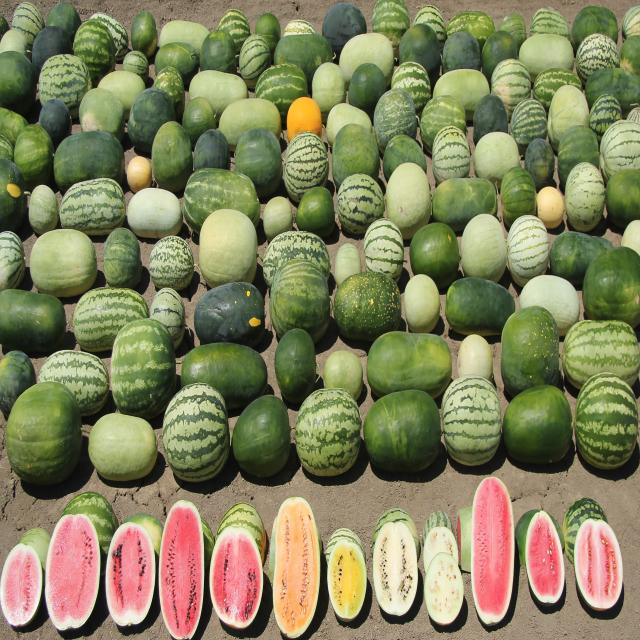Watermelon: (45, 492, 119, 632), (458, 478, 514, 625), (159, 502, 214, 639), (210, 504, 266, 630), (110, 318, 176, 420), (162, 384, 230, 482), (562, 499, 622, 610), (574, 374, 639, 470), (106, 516, 162, 627), (295, 388, 361, 478), (441, 376, 502, 466), (562, 321, 640, 388), (0, 528, 50, 627), (74, 287, 149, 352), (515, 509, 565, 606), (38, 350, 109, 415), (262, 232, 331, 287), (60, 179, 126, 236), (39, 55, 91, 118), (284, 133, 329, 203), (338, 174, 385, 234), (74, 19, 115, 87), (600, 121, 640, 183), (364, 220, 404, 282), (149, 236, 194, 289), (391, 60, 431, 116), (432, 125, 470, 183), (576, 34, 620, 82), (11, 2, 45, 48), (530, 7, 570, 39)
